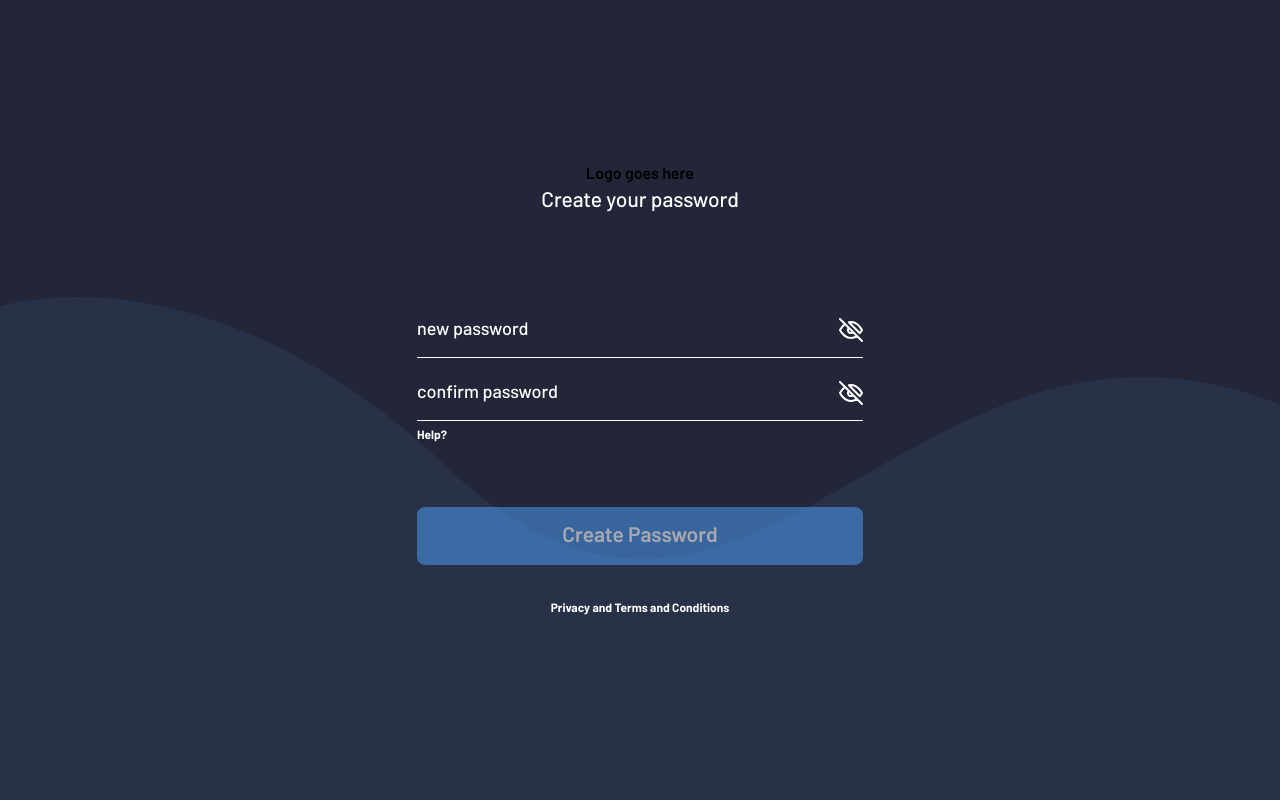
New Password Screen › "Create Password" button › should enable when both password fields have values
This screenshot has width=1280, height=800.
Type "test" into the password field with placeholder "new password".
click(628, 330); type("test")  # box x1=417 y1=302 x2=839 y2=356
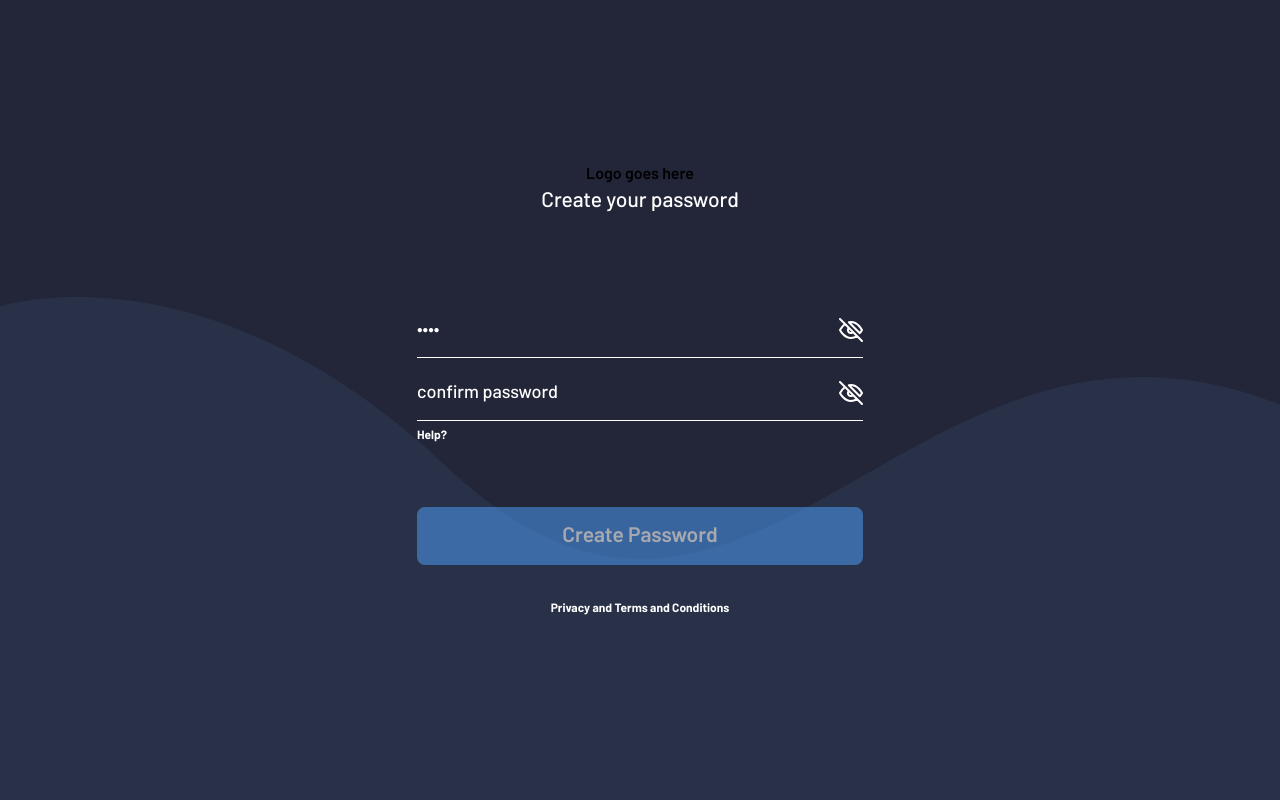
Type "test" into the password field with placeholder "confirm password".
click(628, 392); type("test")  # box x1=417 y1=366 x2=839 y2=420
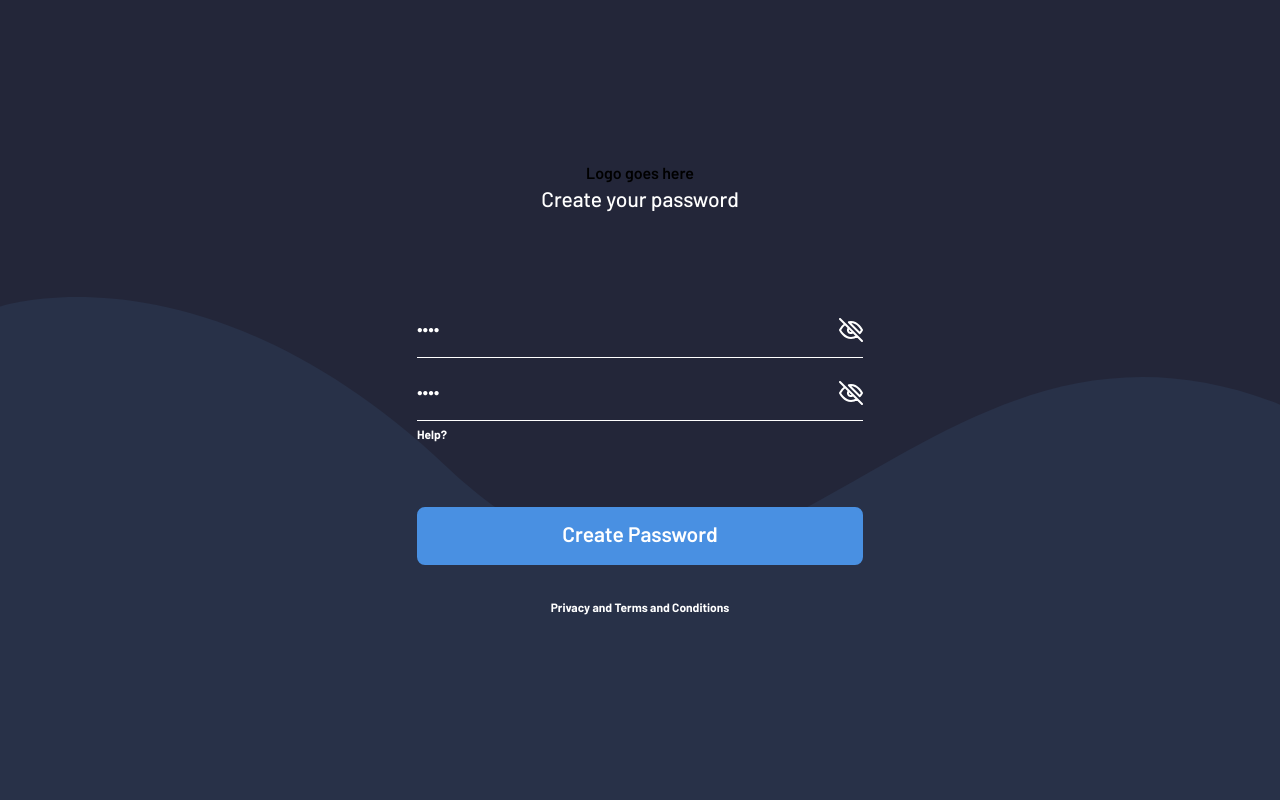
Now the button "Create Password" is enabled, box x1=417 y1=506 x2=863 y2=564
